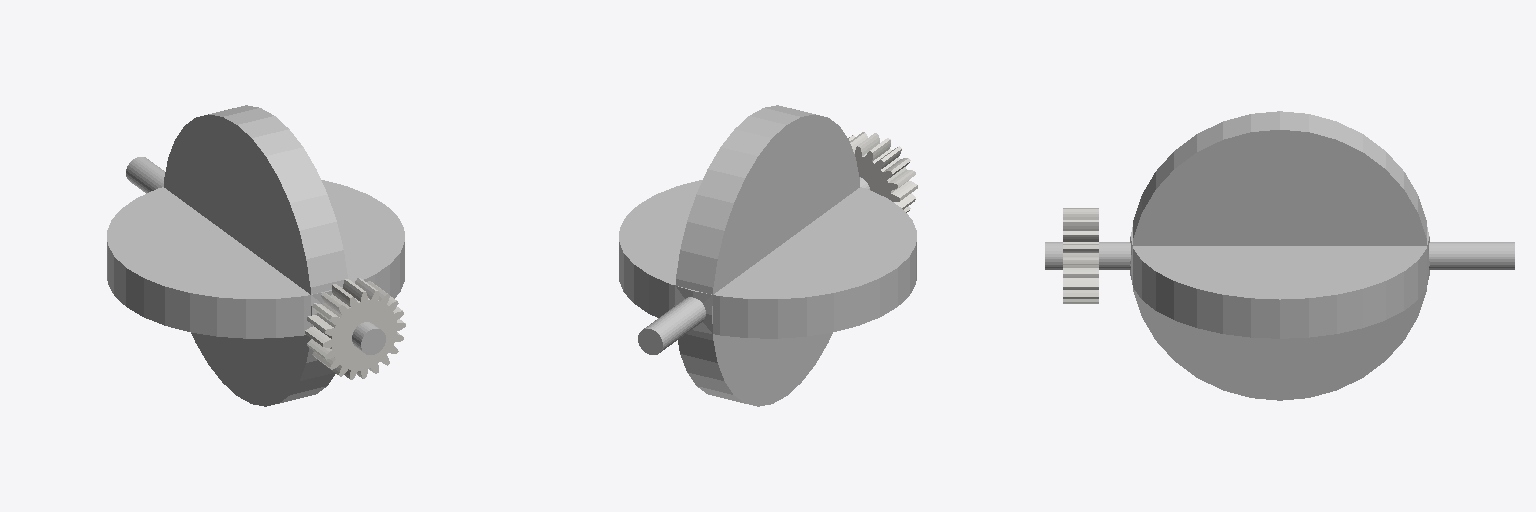
3 renders of one model, left to right at view 1: azimuth 30°, elevation 25°; view 2: azimuth 150°, elevation 25°; view 3: azimuth 270°, elevation 25°, orthographic.
Parts seen in each view (by area): view 1: Cylinder.003, Cylinder, lite_tannhjul, Cylinder.005, Cylinder.004; view 2: Cylinder.003, Cylinder, lite_tannhjul, Cylinder.005; view 3: Cylinder.003, Cylinder, lite_tannhjul, Cylinder.005, Cylinder.004.
Part boxes in pixels (x1,y1,x2,y2): Cylinder.003: (164,105,347,406); Cylinder: (107,180,404,338); lite_tannhjul: (305,278,405,379); Cylinder.005: (126,157,164,193); Cylinder.004: (321,301,385,354); Cylinder.003: (674,105,859,406); Cylinder: (619,180,916,338); lite_tannhjul: (848,132,917,212); Cylinder.005: (638,297,705,354); Cylinder.003: (1130,111,1429,400); Cylinder: (1130,227,1429,338); lite_tannhjul: (1063,208,1098,303); Cylinder.005: (1429,242,1514,269); Cylinder.004: (1045,242,1130,269).
Bounding box in the file's own units: 41.36 × 41.36 × 65.